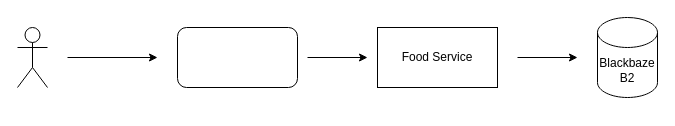
Image size: 675x126. Some labels were removed from this diagram. Here are the shapes that lost their labels. From the top down, the box of each, then its label:
(16, 26, 48, 88): User
(176, 26, 298, 88): App
